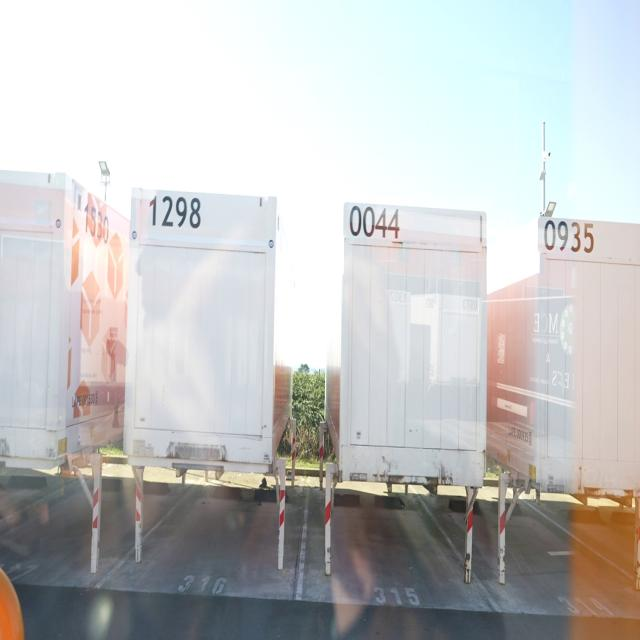Code: (147, 187, 206, 239), (346, 200, 404, 250), (542, 213, 598, 264), (78, 190, 115, 247)
